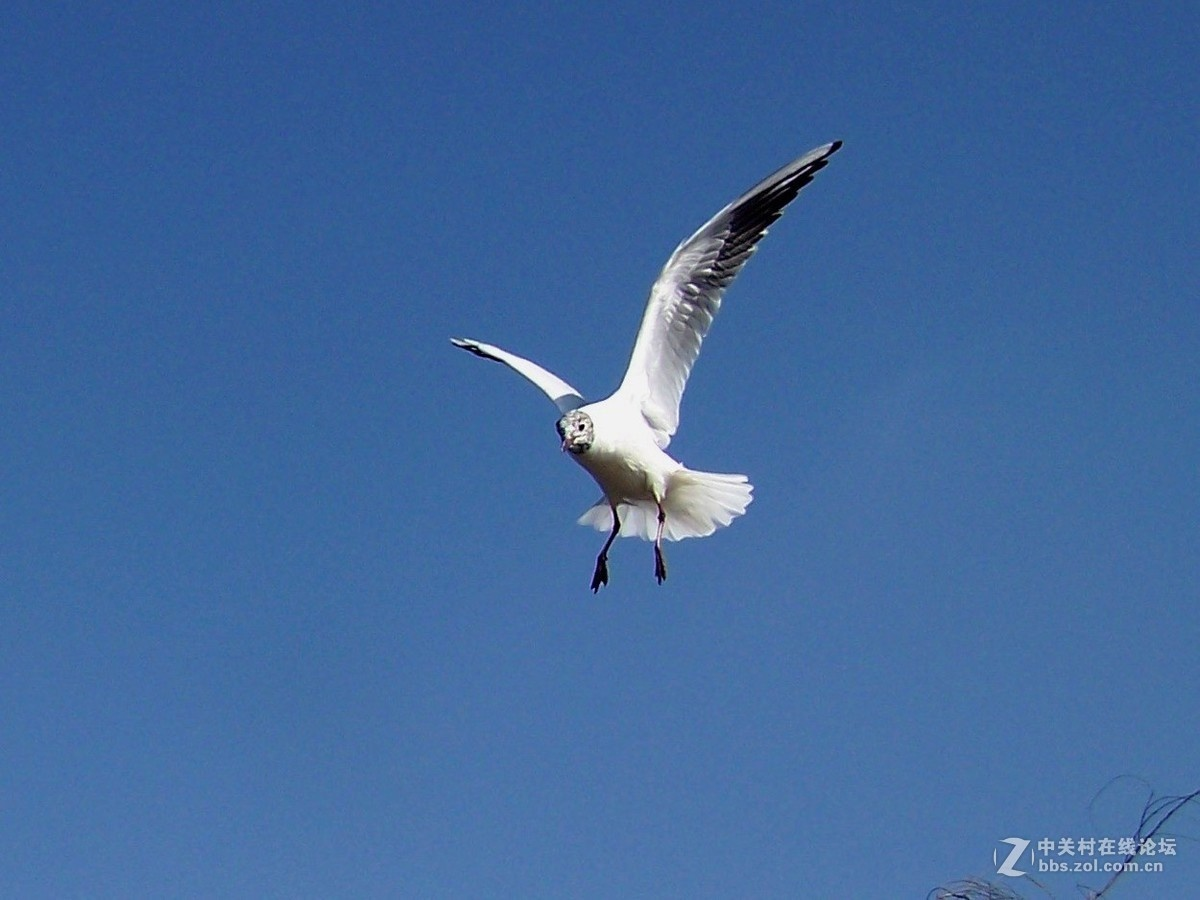bird: (427, 135, 848, 607)
